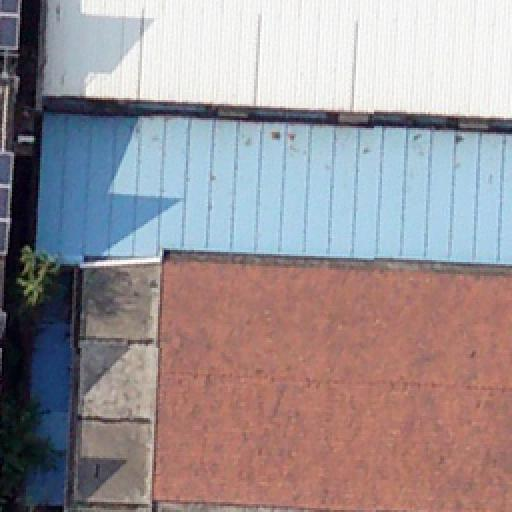solar-panel: (1, 151, 15, 257), (0, 0, 20, 52)
